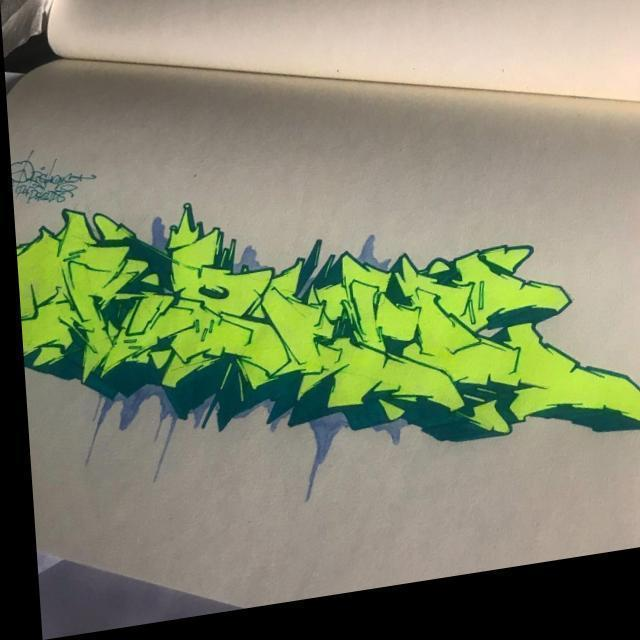nonspitting: (14, 201, 640, 445), (10, 151, 100, 202)
